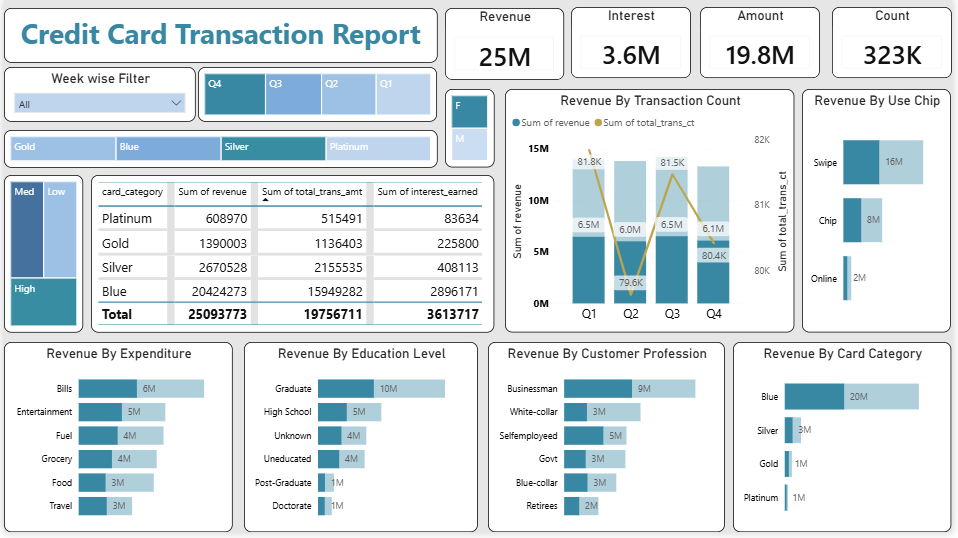

Layout of this report page (visuals, bound fields, positions):
{"tool":"powerbi","page":{"name":"CC_Transactions","canvas":[1280,720],"ordinal":1},"visuals":[{"type":"textbox","box":[0,11.6,585.5,73.9],"z":0},{"type":"lineStackedColumnComboChart","title":"Revenue By Transaction Count","fields":{"Category":["public cc_details.qtr"],"Y":["Sum(public cc_details.revenue)"],"Y2":["Sum(public cc_details.total_trans_ct)"]},"box":[676.8,121.7,391.3,329],"z":1000},{"type":"barChart","title":"Revenue By Expenditure","fields":{"Y":["Sum(public cc_details.revenue)"],"Category":["public cc_details.exp_type"]},"box":[0,463.8,308.7,256.5],"z":2000},{"type":"barChart","title":"Revenue By Education Level","fields":{"Y":["Sum(public cc_details.revenue)"],"Category":["public cc_customers.education_level"]},"box":[324.6,463.8,315.9,256.5],"z":3000},{"type":"barChart","title":"Revenue By Customer Profession","fields":{"Y":["Sum(public cc_details.revenue)"],"Category":["public cc_customers.customer_job"]},"box":[653.6,463.8,320.3,256.5],"z":4000},{"type":"barChart","title":"Revenue By Card Category","fields":{"Y":["Sum(public cc_details.revenue)"],"Category":["public cc_details.card_category"]},"box":[985,463.5,294.8,256.5],"z":5000},{"type":"barChart","title":"Revenue By Use Chip","fields":{"Y":["Sum(public cc_details.revenue)"],"Category":["public cc_details.use_chip"]},"box":[1078.3,121.7,201.4,329],"z":6000},{"type":"tableEx","fields":{"Values":["public cc_details.card_category","Sum(public cc_details.revenue)","Sum(public cc_details.total_trans_amt)","Sum(public cc_details.interest_earned)"]},"box":[117.4,237.7,544.9,213],"z":7000},{"type":"cardVisual","title":"Revenue","fields":{"Data":["Sum(public cc_details.revenue)"]},"box":[595.7,11.6,160.9,97.1],"z":8000},{"type":"cardVisual","title":"Interest","fields":{"Data":["Sum(public cc_details.interest_earned)"]},"box":[766.8,11.3,161.6,96.4],"z":9000},{"type":"cardVisual","title":"Amount ","fields":{"Data":["Sum(public cc_details.total_trans_amt)"]},"box":[941.1,11.3,161.6,96.4],"z":10000},{"type":"cardVisual","title":"Count","fields":{"Data":["Sum(public cc_details.total_trans_ct)"]},"box":[1118.3,11.3,161.6,96.4],"z":11000},{"type":"slicer","title":"Week wise Filter","fields":{"Values":["public cc_details.week_start_date"]},"box":[0,91.3,259.4,73.9],"z":12000},{"type":"treemap","fields":{"Group":["public cc_details.qtr"],"Values":["Avg(public cc_details.client_num)"]},"box":[262.3,91.3,323.2,73.9],"z":13000},{"type":"treemap","fields":{"Values":["Avg(public cc_details.client_num)"],"Group":["public cc_customers.gender"]},"box":[595.7,121.7,66.7,105.8],"z":14000},{"type":"treemap","fields":{"Values":["Avg(public cc_details.client_num)"],"Group":["public cc_details.card_category"]},"box":[0,176.8,585.5,50.7],"z":15000},{"type":"treemap","fields":{"Values":["Avg(public cc_details.client_num)"],"Group":["public cc_customers.income_group"]},"box":[0,237.7,107.2,213],"z":16000}]}

Visuals, with their boxes in screenshot pixels (x1, y1, x2, y2), scaled from the page's 1280x720 canvas onto the 958x538 screenshot:
textbox: (0,9,438,64)
"Revenue By Transaction Count" lineStackedColumnComboChart: (507,91,799,337)
"Revenue By Expenditure" barChart: (0,347,231,537)
"Revenue By Education Level" barChart: (243,347,479,537)
"Revenue By Customer Profession" barChart: (489,347,729,537)
"Revenue By Card Category" barChart: (737,346,957,537)
"Revenue By Use Chip" barChart: (807,91,957,337)
tableEx - public cc_details.card_category x Sum(public cc_details.revenue): (88,178,496,337)
"Revenue" cardVisual: (446,9,566,81)
"Interest" cardVisual: (574,8,695,80)
"Amount " cardVisual: (704,8,825,80)
"Count" cardVisual: (837,8,957,80)
"Week wise Filter" slicer: (0,68,194,123)
treemap - public cc_details.qtr x Avg(public cc_details.client_num): (196,68,438,123)
treemap - Avg(public cc_details.client_num) x public cc_customers.gender: (446,91,496,170)
treemap - Avg(public cc_details.client_num) x public cc_details.card_category: (0,132,438,170)
treemap - Avg(public cc_details.client_num) x public cc_customers.income_group: (0,178,80,337)
